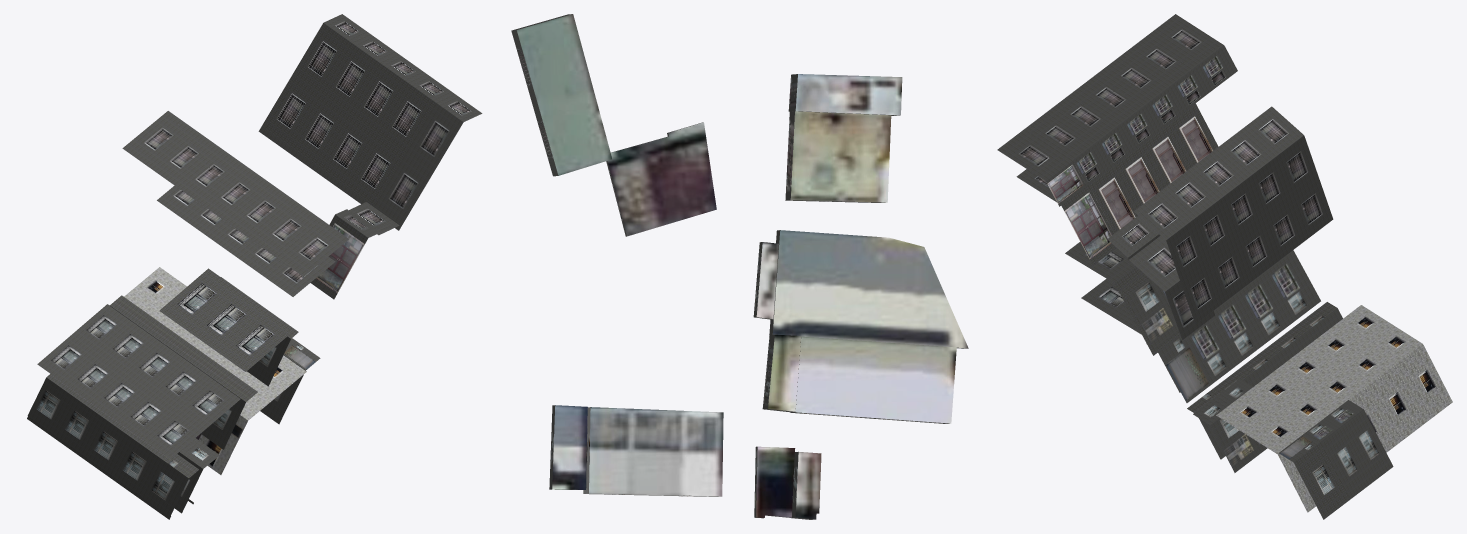
3 views of the same model, side by side, from view 1: azimuth 30°, elevation 25°; view 2: azimuth 150°, elevation 25°; view 3: azimuth 270°, elevation 25° (orthographic). The views are drawn at different scales.
Size of the model in its own units: 47.56 by 45.38 by 42.64.
47 materials, 47 textured.
